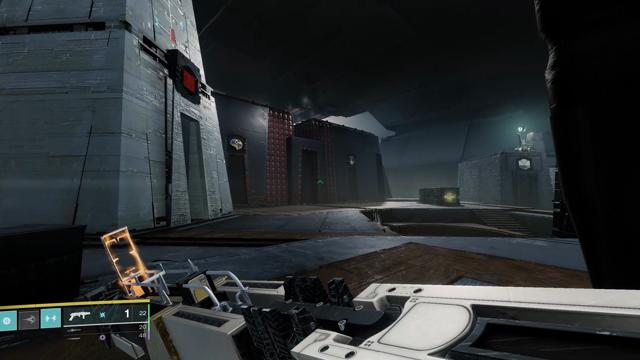brain: (228, 136, 244, 152)
commune: (519, 159, 530, 170)
drink: (347, 154, 356, 166)
stop: (181, 65, 198, 96)
